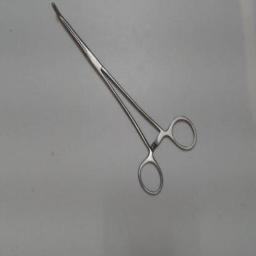Lahey Forceps: (47, 1, 199, 197)
